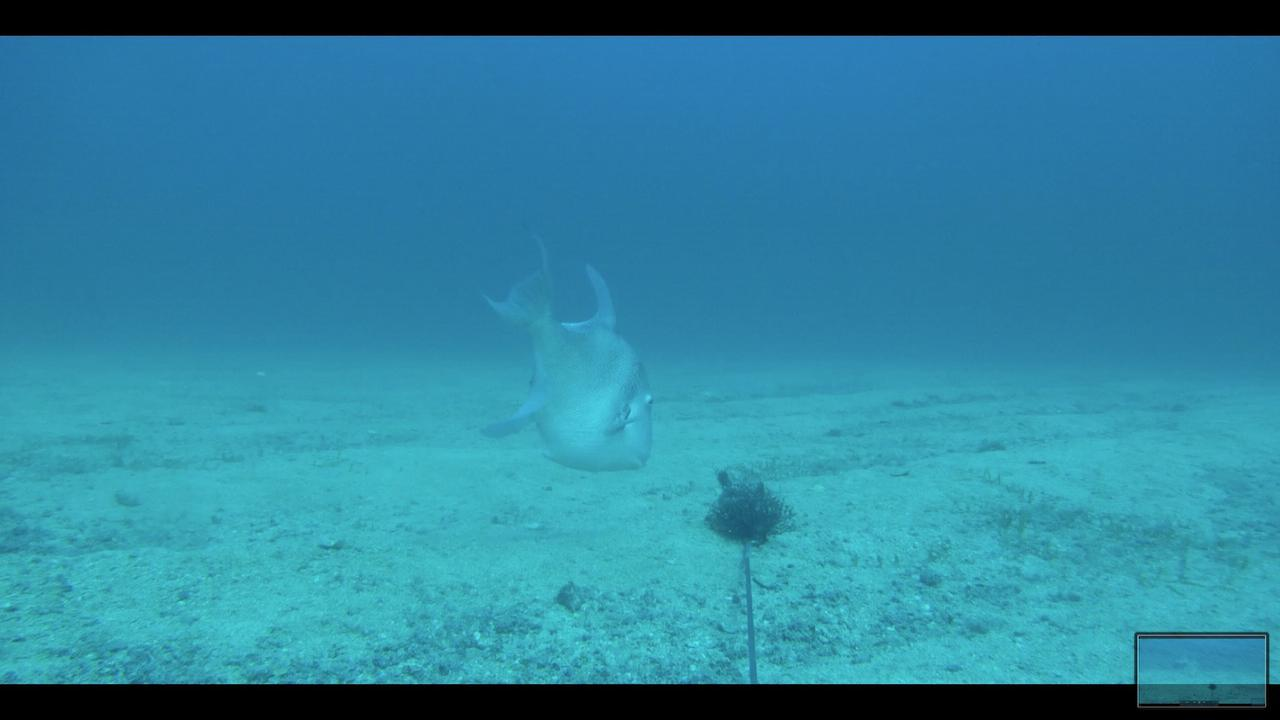balistes: (460, 231, 664, 480)
